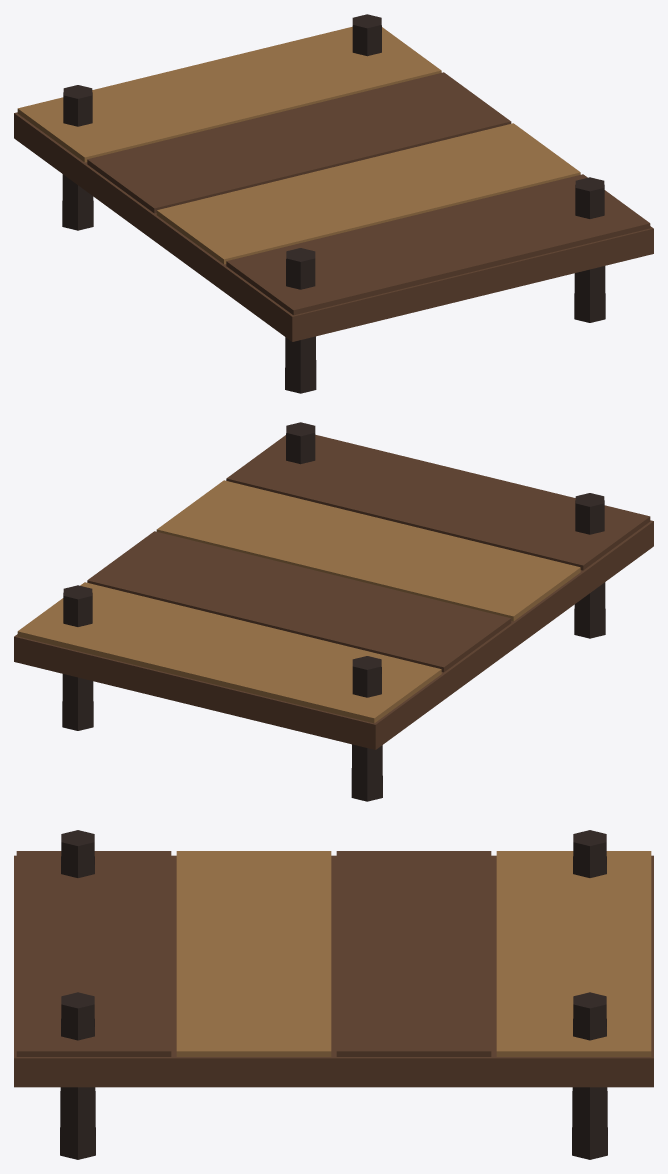
The model's file is PirateCove_DockStraight_Simple.glb.
3 renders of one model, top to bottom at view 1: azimuth 30°, elevation 25°; view 2: azimuth 150°, elevation 25°; view 3: azimuth 270°, elevation 25°, orthographic. The views are drawn at different scales.
Visible parts, largest first — view 1: PirateCove_DockStraight_Simple; view 2: PirateCove_DockStraight_Simple; view 3: PirateCove_DockStraight_Simple.
Part boxes in pixels (x1=…): PirateCove_DockStraight_Simple: x1=14, y1=14, x2=653, y2=393; PirateCove_DockStraight_Simple: x1=14, y1=422, x2=653, y2=801; PirateCove_DockStraight_Simple: x1=14, y1=830, x2=653, y2=1159.
Size of the model in its own units: 3 by 1.04 by 4.
